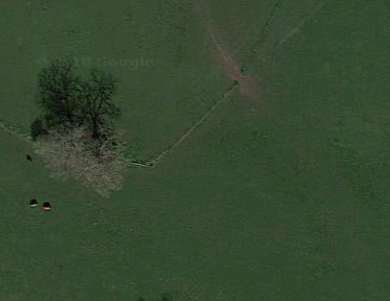tree: (30, 99, 133, 208)
